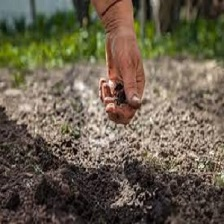loamy_soil: (11, 55, 206, 216)
